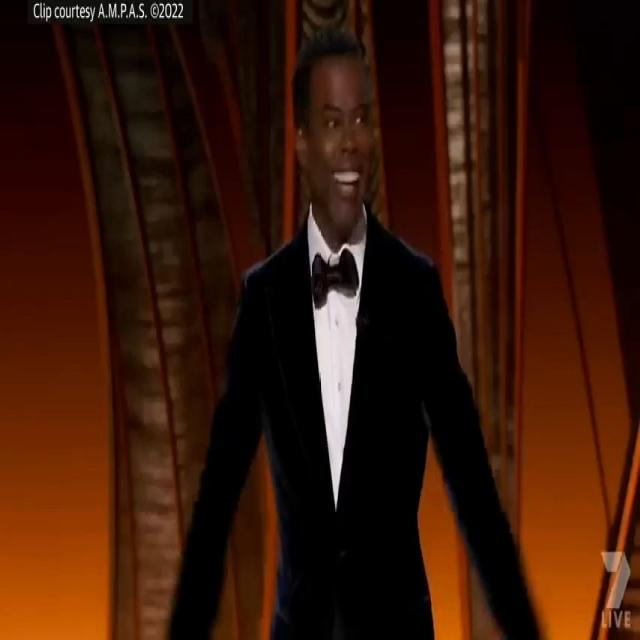non-fight: (165, 18, 546, 640)
